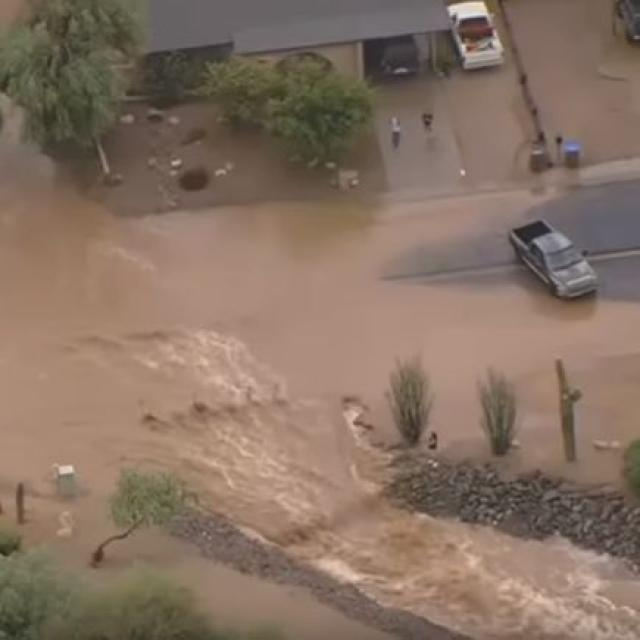flooded_areas: (0, 31, 525, 612)
